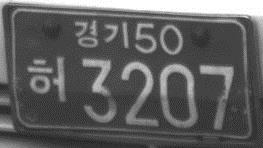0: (158, 63, 199, 130), (159, 23, 186, 56)
2: (120, 59, 159, 128)
3: (80, 56, 118, 124)
5: (133, 21, 158, 54)
7: (197, 62, 234, 130)
경기_O: (71, 18, 130, 50)
허: (26, 52, 67, 103)
